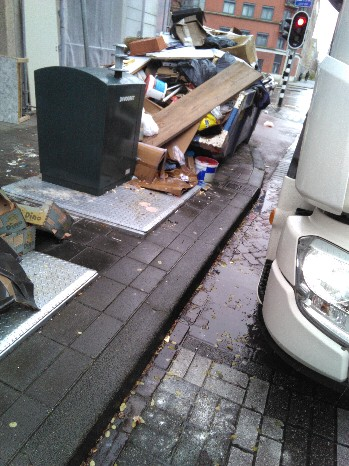Container: (34, 56, 133, 180)
Rest: (144, 60, 265, 139), (146, 20, 233, 74), (142, 123, 190, 196), (5, 194, 71, 247), (193, 156, 214, 185)
